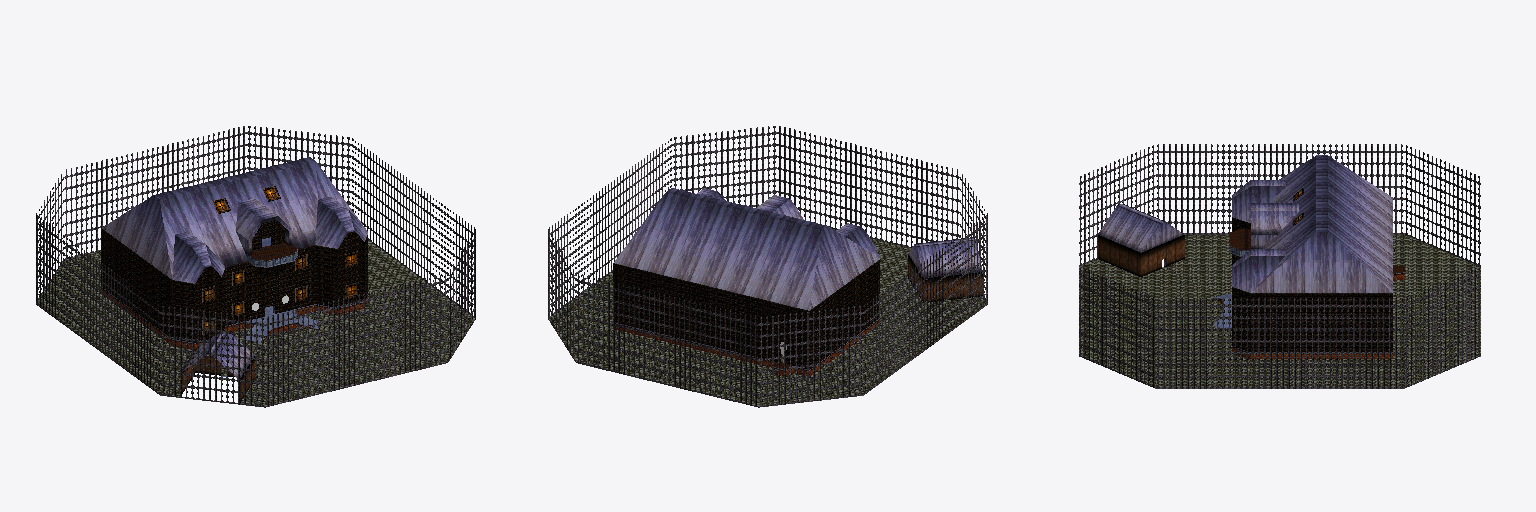
3 renders of one model, left to right at view 1: azimuth 30°, elevation 25°; view 2: azimuth 150°, elevation 25°; view 3: azimuth 270°, elevation 25°, orthographic.
Parts seen in each view (by area): view 1: r0-node; view 2: r0-node; view 3: r0-node.
Part boxes in pixels (x1,y1,x2,y2): r0-node: (36, 126, 475, 407); r0-node: (548, 126, 987, 407); r0-node: (1079, 144, 1480, 388).
Bounding box in the file's own units: 9.5 × 3.6 × 10.5.
28 materials, 17 textured.